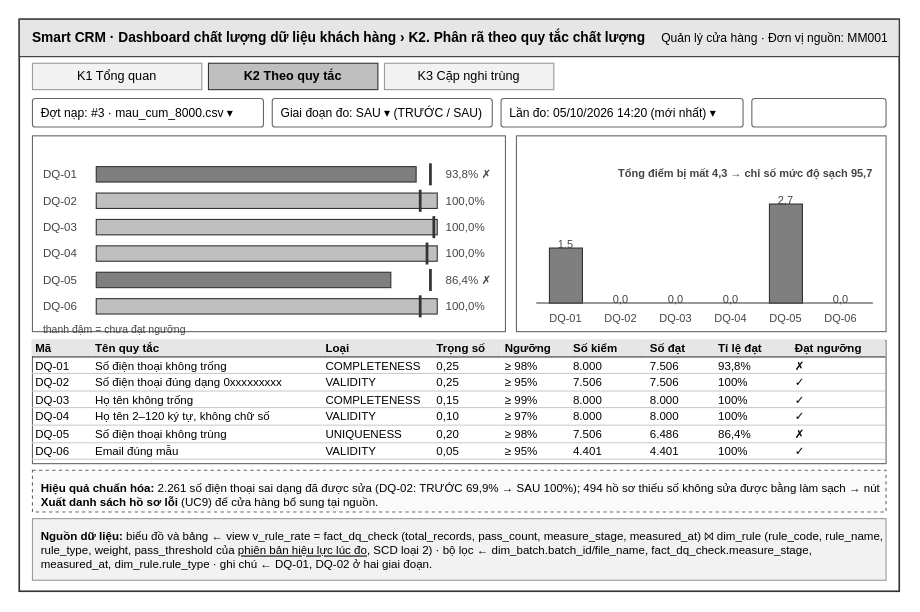
The diagram is 920 pixels wide and 612 high, and some of its shapes have lost their labels. The shapes that lost their labels are listed below. From the top down, each one's box as (x1, y1, x2, y2) in pixels, then its label:
(751, 97, 886, 127): Loại quy tắc: Tất cả ▾
(31, 135, 505, 332): Tỉ lệ đạt theo quy tắc ( | = ngưỡng đạt)
(515, 135, 886, 332): Điểm bị mất = trọng số × (1 − tỉ lệ đạt) × 100
